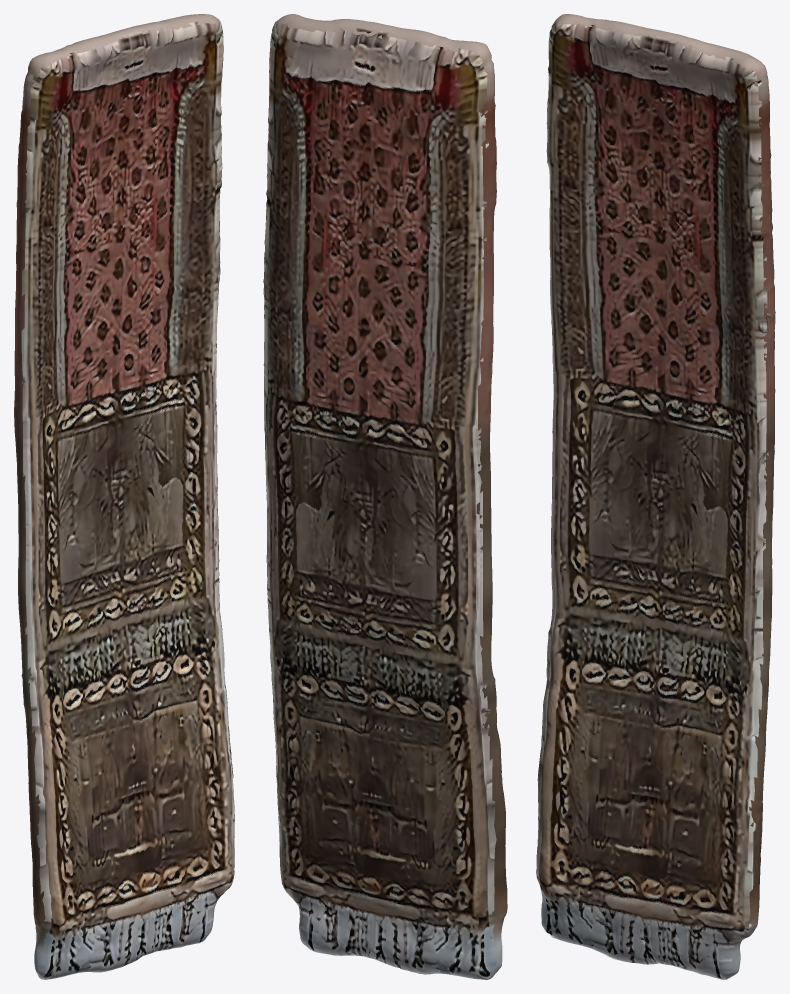
Rendered from kfl-2207.glb.
The picture shows the model from 3 angles, left to right: view 1: azimuth 30°, elevation 25°; view 2: azimuth 150°, elevation 25°; view 3: azimuth 330°, elevation 25°; orthographic projection. The views are drawn at different scales.
Parts seen in each view (by area): view 1: kfl-2207; view 2: kfl-2207; view 3: kfl-2207.
Part boxes in pixels (x1=…): kfl-2207: x1=14, y1=14, x2=234, y2=979; kfl-2207: x1=263, y1=14, x2=507, y2=979; kfl-2207: x1=536, y1=14, x2=775, y2=979.
Bounding box in the file's own units: 0.2358 × 0.9877 × 0.093.
Materials: 4 (4 with a texture image).
